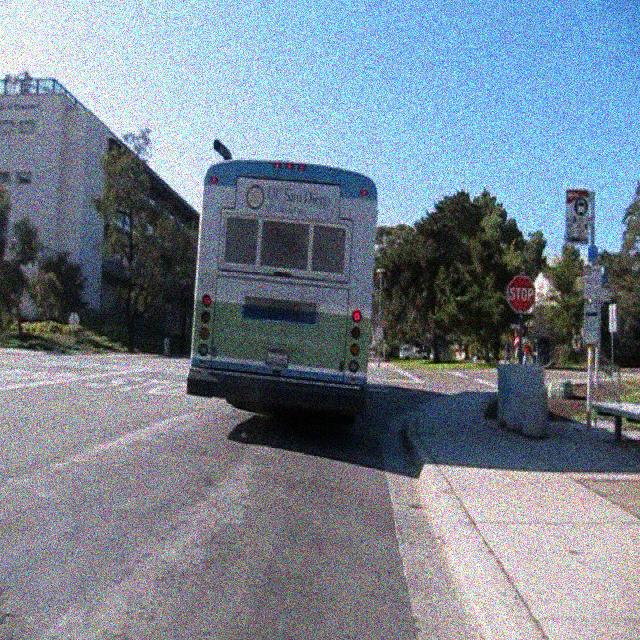stop: (505, 274, 536, 314)
